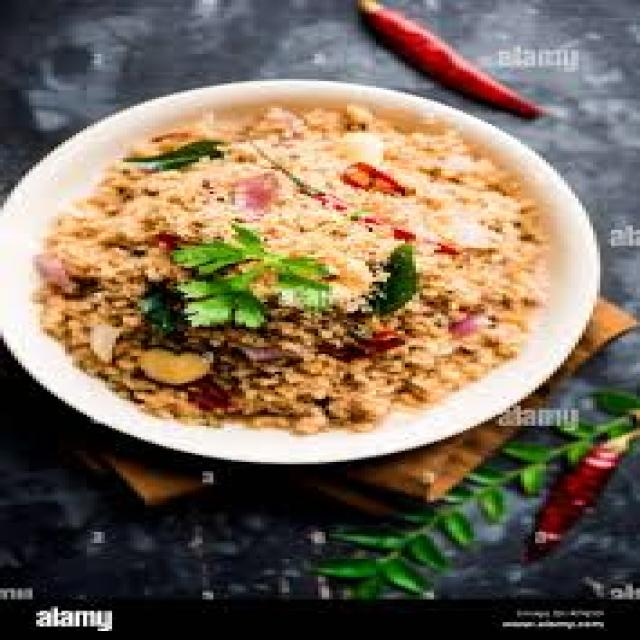UPMA: (29, 104, 546, 426)
